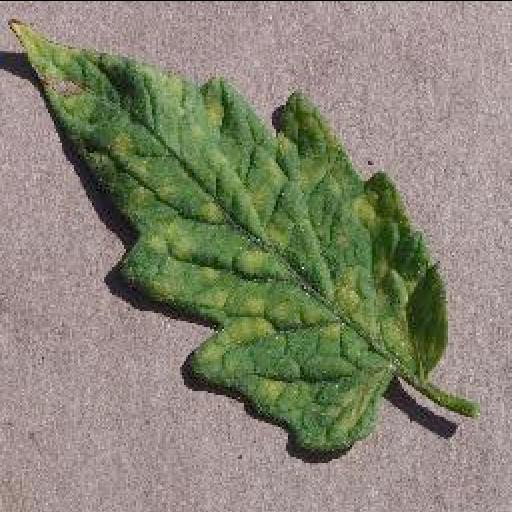disease_tomato: (6, 18, 454, 456)
